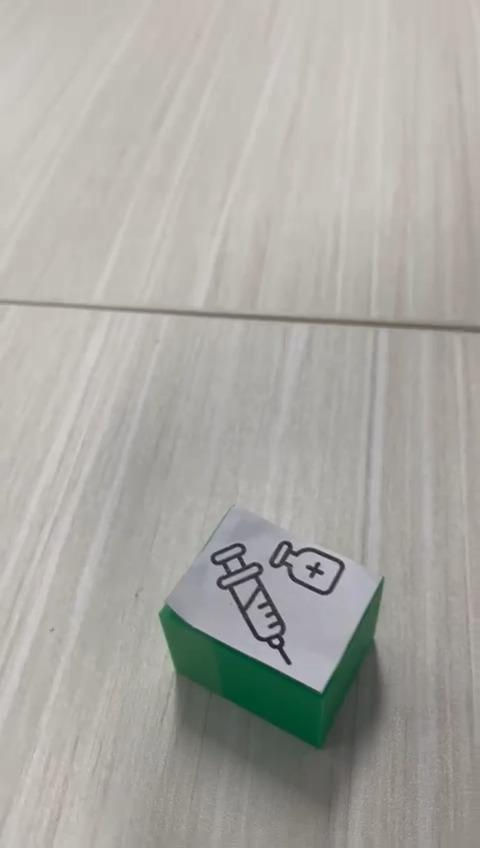antiseptic cream: (157, 503, 385, 749)
